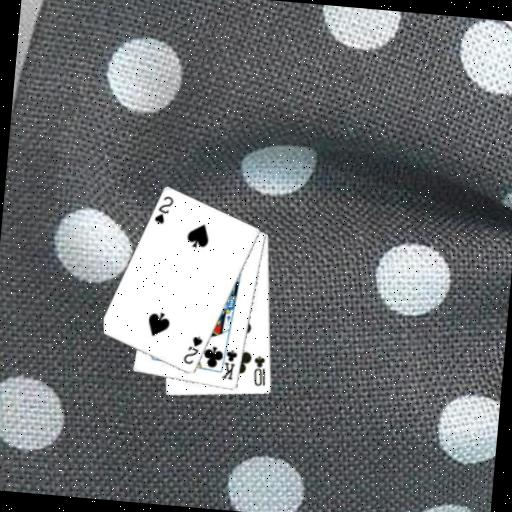10C: (250, 352, 270, 388)
2S: (180, 332, 205, 367), (151, 192, 176, 227)
KC: (217, 342, 240, 381)
